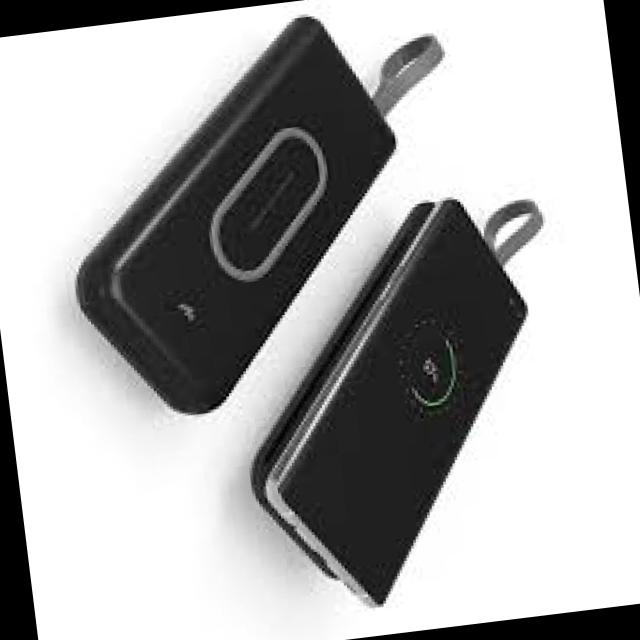power_bank: (38, 5, 432, 435)
